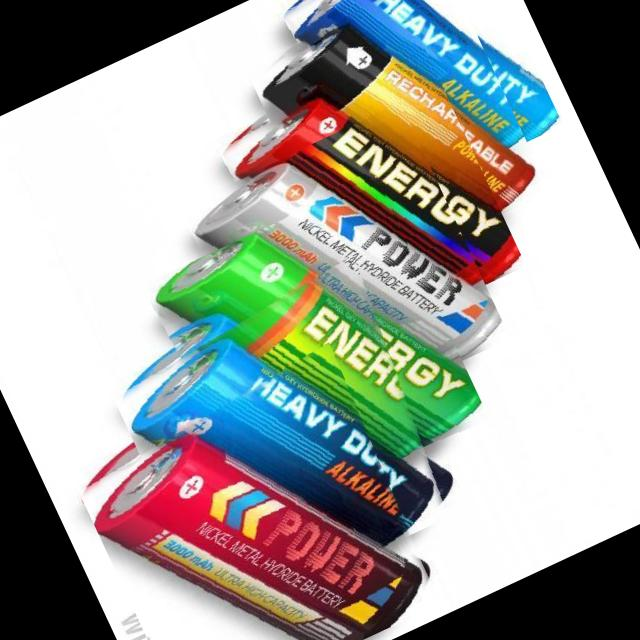Hazard: (100, 256, 470, 625), (139, 176, 489, 531), (65, 342, 448, 640), (176, 102, 509, 443), (208, 34, 526, 364), (239, 0, 549, 287), (271, 0, 562, 214)
